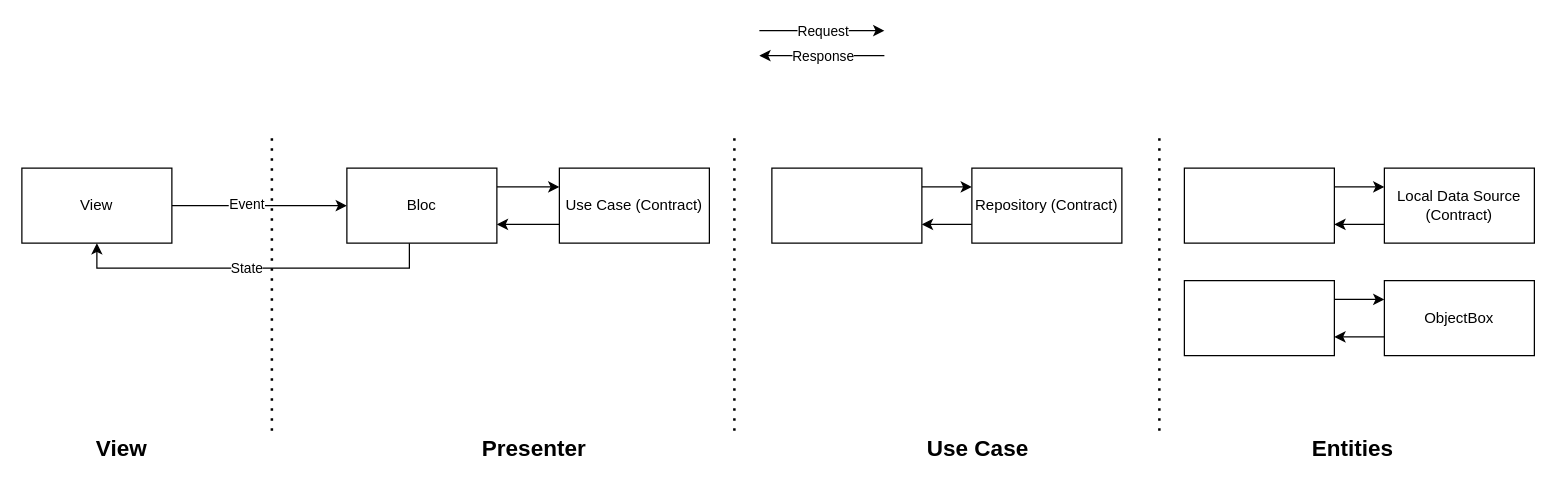
Some shapes in this 1556 by 490 pixel diagram are drawn without their labels. The shapes that lost their labels are listed below. From the top down, each one's centre as x and y in pixels, then its label:
point (846, 205): Use Case (Impl)
point (1258, 205): Repository (Impl)
point (1258, 317): Local Data Source (Impl)
